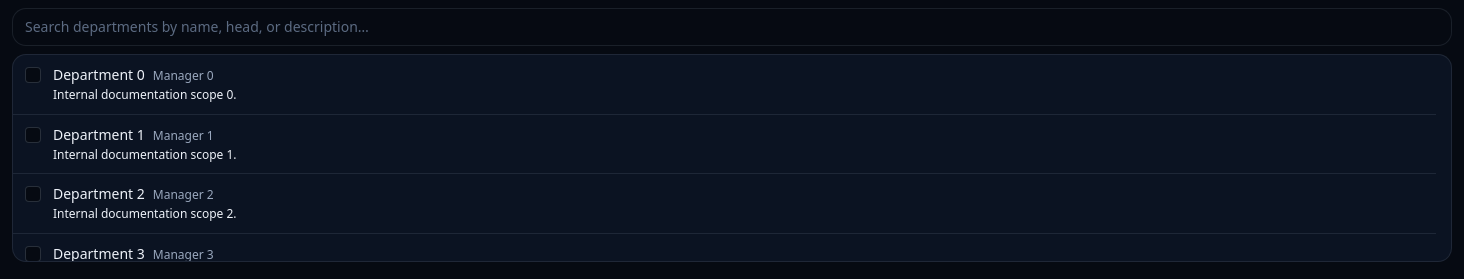
it: DepartmentSearchList › shows empty state when nothing matches
Type "zzzz-no-match" into the search field. click: [732, 27]
box: [12, 8, 1452, 46]
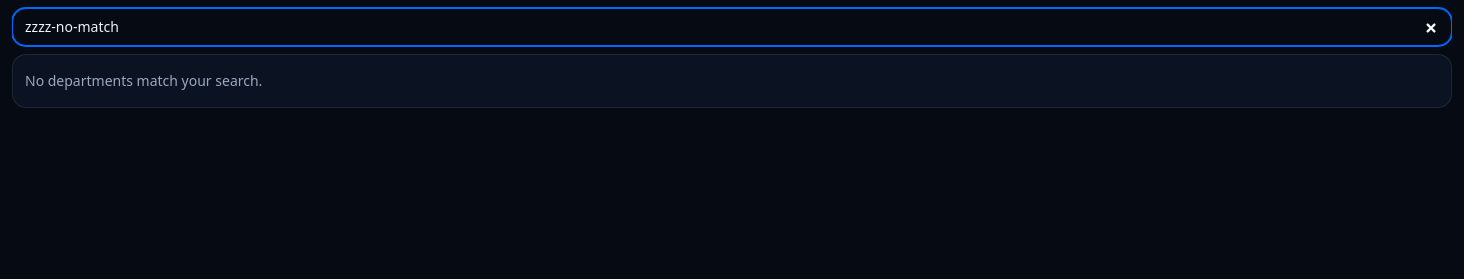
Result: the text "No departments match your search." is shown at [25, 71, 262, 90]
